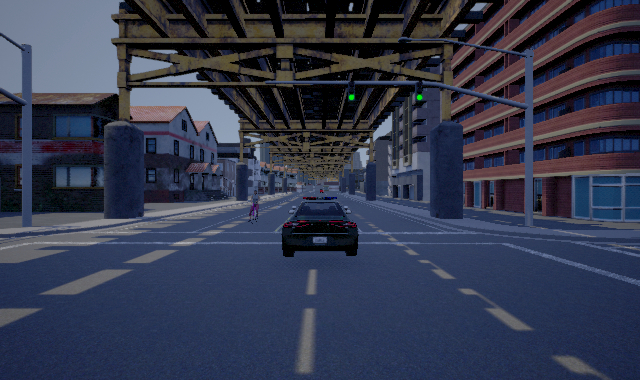bike: (247, 189, 262, 227)
traffic_light: (415, 81, 423, 102), (348, 81, 355, 102)
vehicle: (281, 197, 359, 257)
